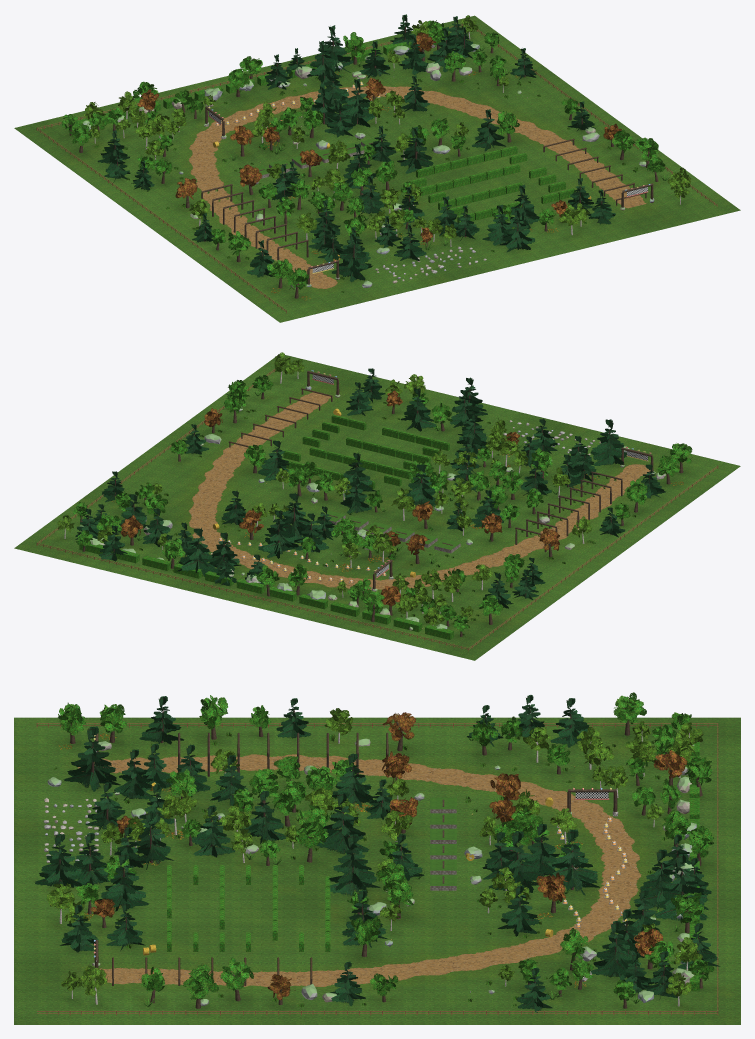
File: obstacle-course.glb
The picture shows the model from 3 angles, top to bottom: view 1: azimuth 30°, elevation 25°; view 2: azimuth 150°, elevation 25°; view 3: azimuth 270°, elevation 25°; orthographic projection. The views are drawn at different scales.
Parts seen in each view (by area): view 1: Scenery_ground, Scenery_pine, Scenery_leaf, Scenery_leafBirch, Scenery_patch, Scenery_hedge, Scenery_barkA, Scenery_leafAutumn, Scenery_rock, Scenery_wood, Scenery_path, Scenery_blade (+1 smaller); view 2: Scenery_ground, Scenery_pine, Scenery_leaf, Scenery_leafBirch, Scenery_patch, Scenery_hedge, Scenery_barkA, Scenery_leafAutumn, Scenery_wood, Scenery_rock, Scenery_path, Scenery_blade (+1 smaller); view 3: Scenery_ground, Scenery_pine, Scenery_leaf, Scenery_leafBirch, Scenery_patch, Scenery_leafAutumn, Scenery_barkA, Scenery_rock, Scenery_hedge, Scenery_wood, Scenery_path, Scenery_blade (+5 smaller).
Boxes of the visible parts, x1,y1,x2,y2 form: Scenery_ground: [14, 15, 740, 322]; Scenery_pine: [97, 14, 615, 282]; Scenery_leaf: [61, 20, 665, 289]; Scenery_leafBirch: [83, 15, 691, 239]; Scenery_patch: [188, 86, 643, 288]; Scenery_hedge: [69, 35, 575, 222]; Scenery_barkA: [68, 42, 658, 298]; Scenery_leafAutumn: [137, 32, 621, 242]; Scenery_rock: [82, 36, 654, 288]; Scenery_wood: [36, 24, 717, 313]; Scenery_path: [191, 85, 646, 279]; Scenery_blade: [70, 55, 638, 292]; Scenery_ground: [14, 354, 740, 660]; Scenery_pine: [75, 368, 665, 608]; Scenery_leaf: [73, 375, 692, 631]; Scenery_leafBirch: [57, 352, 591, 625]; Scenery_patch: [188, 393, 650, 589]; Scenery_hedge: [79, 414, 453, 639]; Scenery_barkA: [80, 371, 683, 636]; Scenery_leafAutumn: [120, 390, 559, 606]; Scenery_wood: [36, 369, 718, 651]; Scenery_rock: [79, 386, 665, 630]; Scenery_path: [190, 392, 640, 589]; Scenery_blade: [139, 402, 648, 635]; Scenery_ground: [14, 717, 740, 1024]; Scenery_pine: [35, 695, 720, 1012]; Scenery_leaf: [58, 692, 714, 1000]; Scenery_leafBirch: [46, 708, 703, 996]; Scenery_patch: [77, 754, 641, 986]; Scenery_leafAutumn: [90, 712, 687, 1000]; Scenery_barkA: [70, 706, 703, 1008]; Scenery_rock: [43, 738, 696, 1005]; Scenery_hedge: [167, 741, 699, 991]; Scenery_wood: [36, 723, 718, 1015]; Scenery_path: [99, 756, 638, 986]; Scenery_blade: [53, 732, 675, 1007].
Bounding box in the file's own units: 220 × 20.3 × 220.
21 materials, 19 textured.
